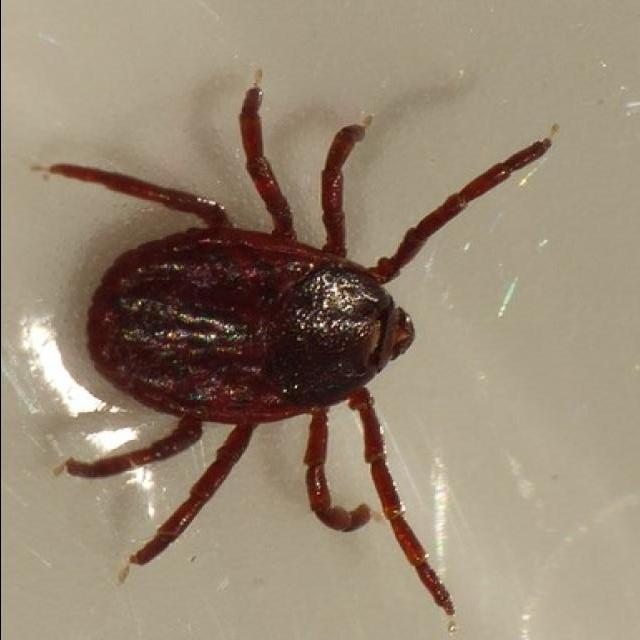Rhipicephalus Sanguineus-F: (40, 83, 550, 619)
